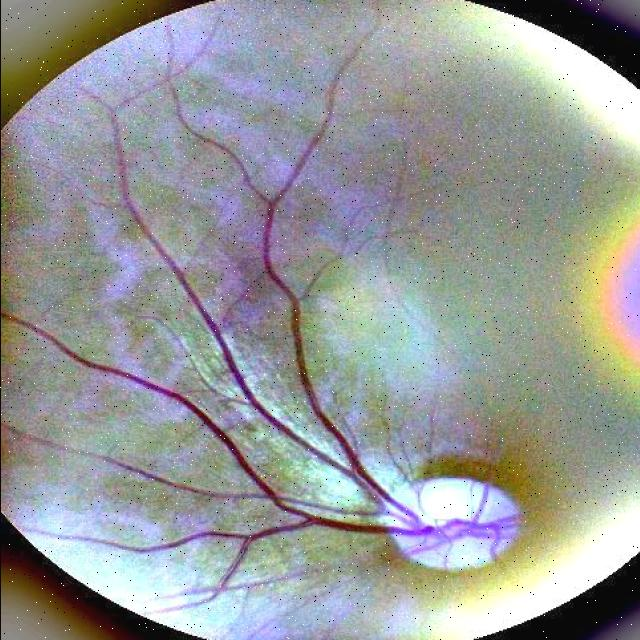Macula: (226, 258, 282, 320)
Nerves: (0, 202, 515, 612)
Optic Disk: (380, 478, 518, 570)
